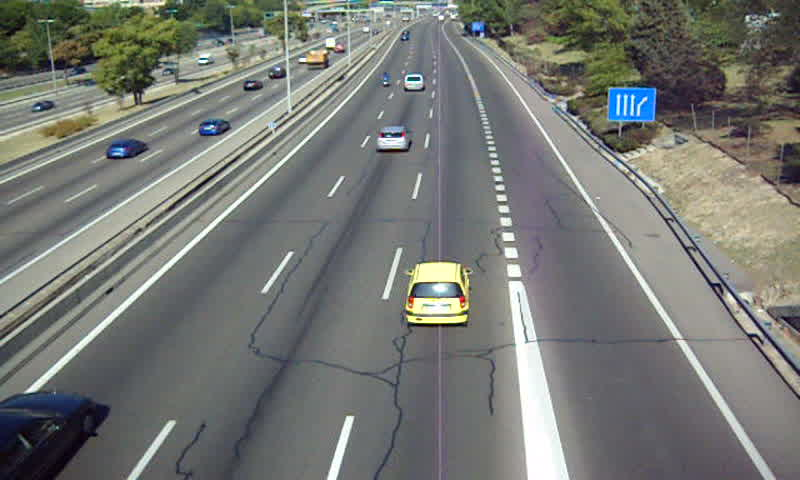car: (404, 263, 473, 326), (377, 125, 413, 153), (404, 74, 423, 91)
motorcycle: (381, 72, 391, 88)
